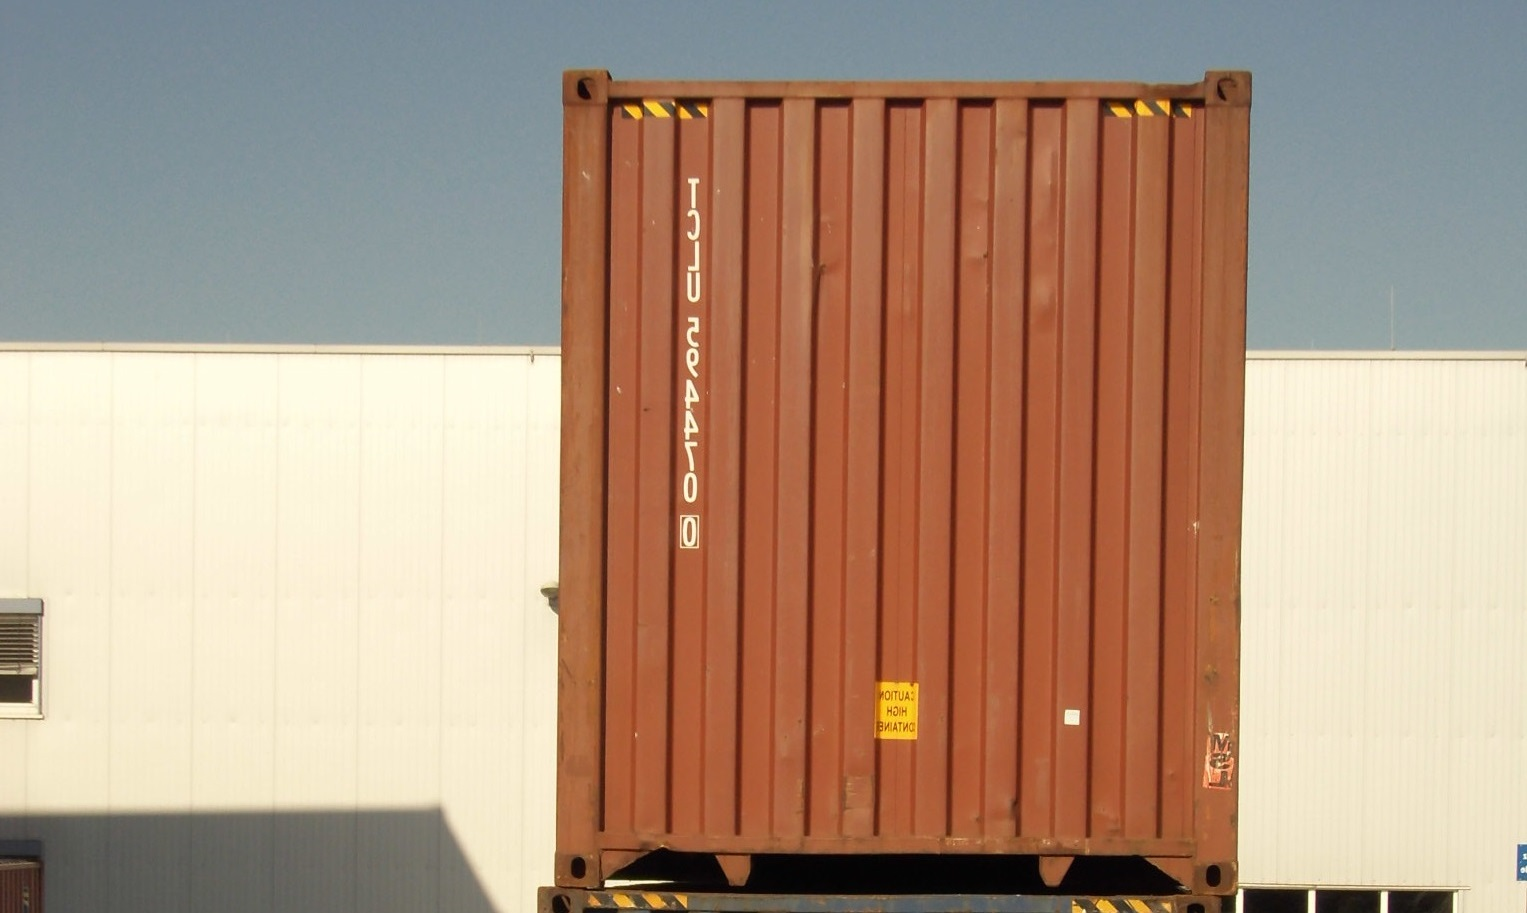container_no_door: (565, 72, 1241, 895)
